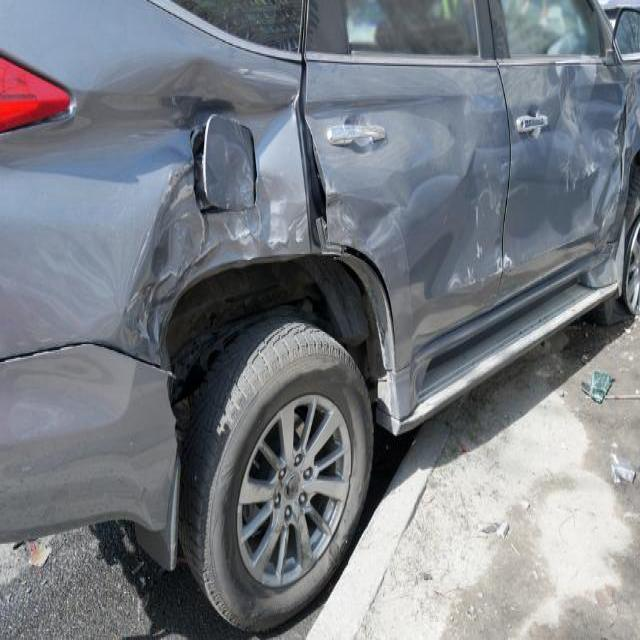Bumper: (0, 243, 211, 618)
Door: (303, 57, 528, 348)
Fender: (109, 6, 306, 348)
